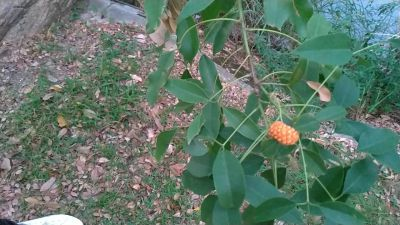eggs: (265, 118, 297, 147)
